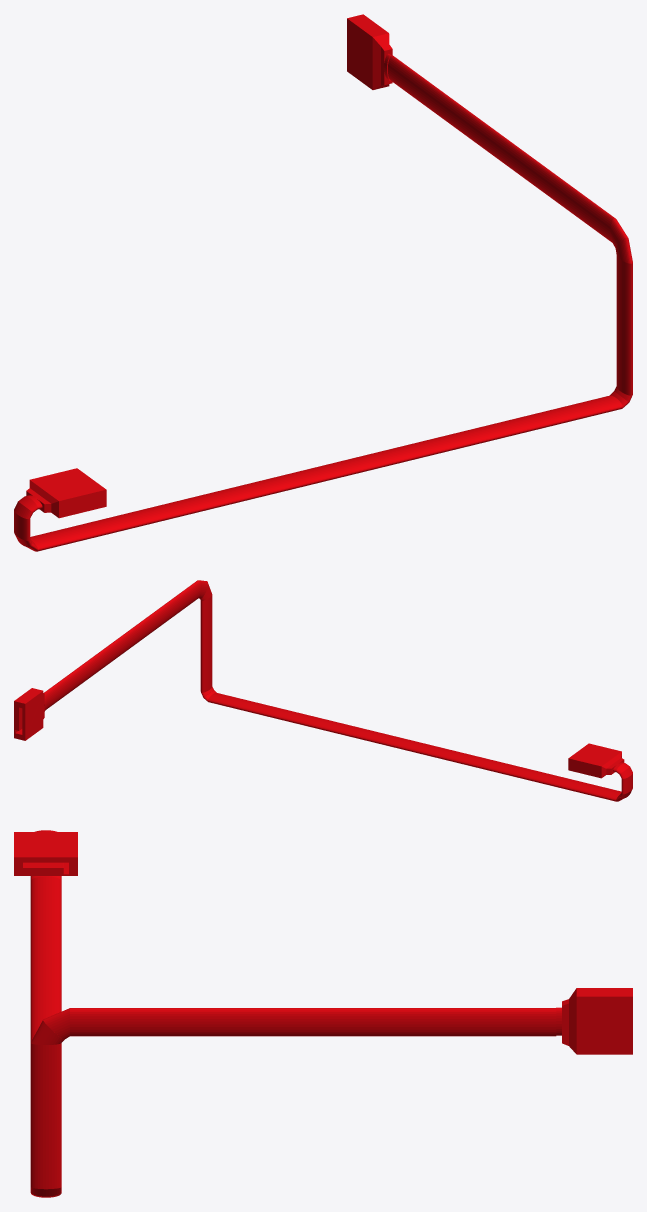
Rendered from SataCable2.fbx.
3 views of the same model, one above another, from view 1: azimuth 30°, elevation 25°; view 2: azimuth 150°, elevation 25°; view 3: azimuth 270°, elevation 25° (orthographic). The views are drawn at different scales.
Parts seen in each view (by area): view 1: SATACable2; view 2: SATACable2; view 3: SATACable2.
Part boxes in pixels (box(x1,y1,x2,y2)): SATACable2: box(14, 14, 632, 551); SATACable2: box(14, 580, 632, 801); SATACable2: box(14, 830, 632, 1197).
Size of the model in its own units: 173 by 51.58 by 138.
